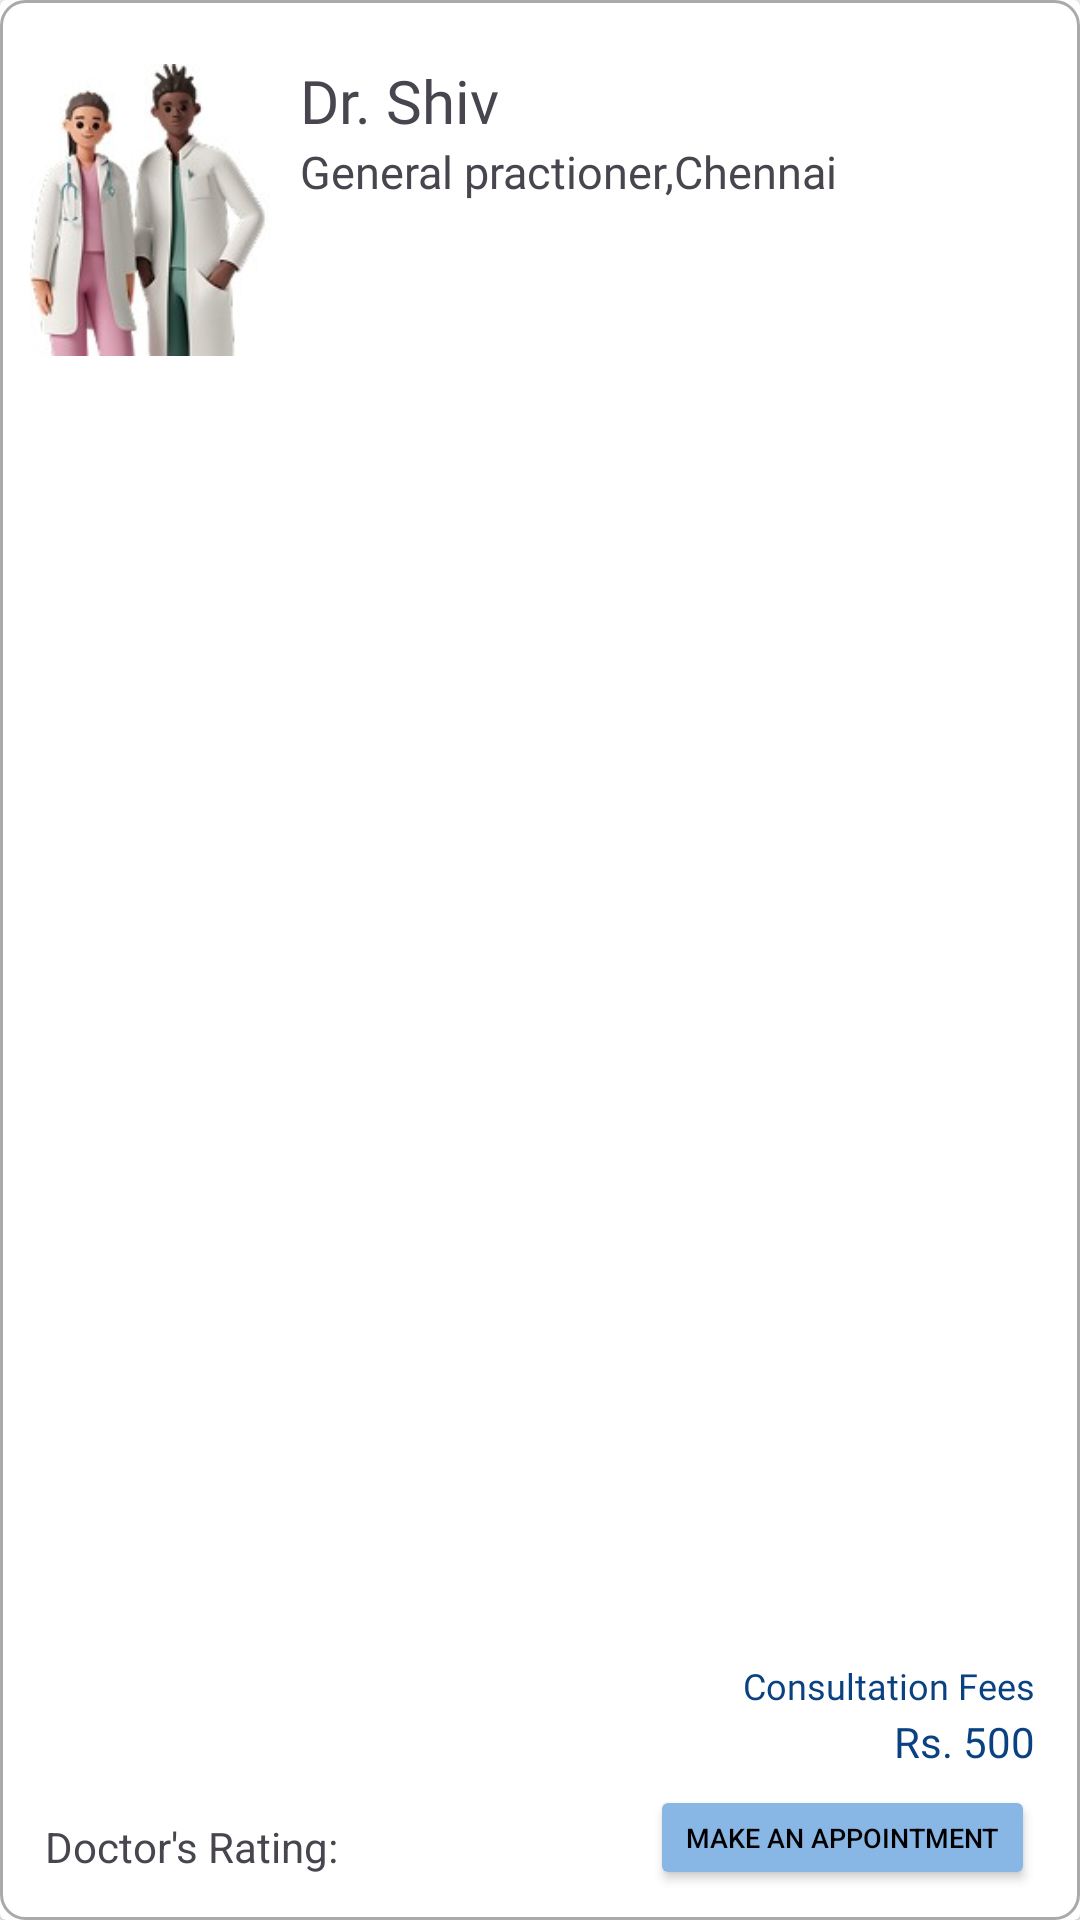

Icon click points for this 1080*1920 phone screenshot, format (x,y):
doctors in coats: (147,210)
